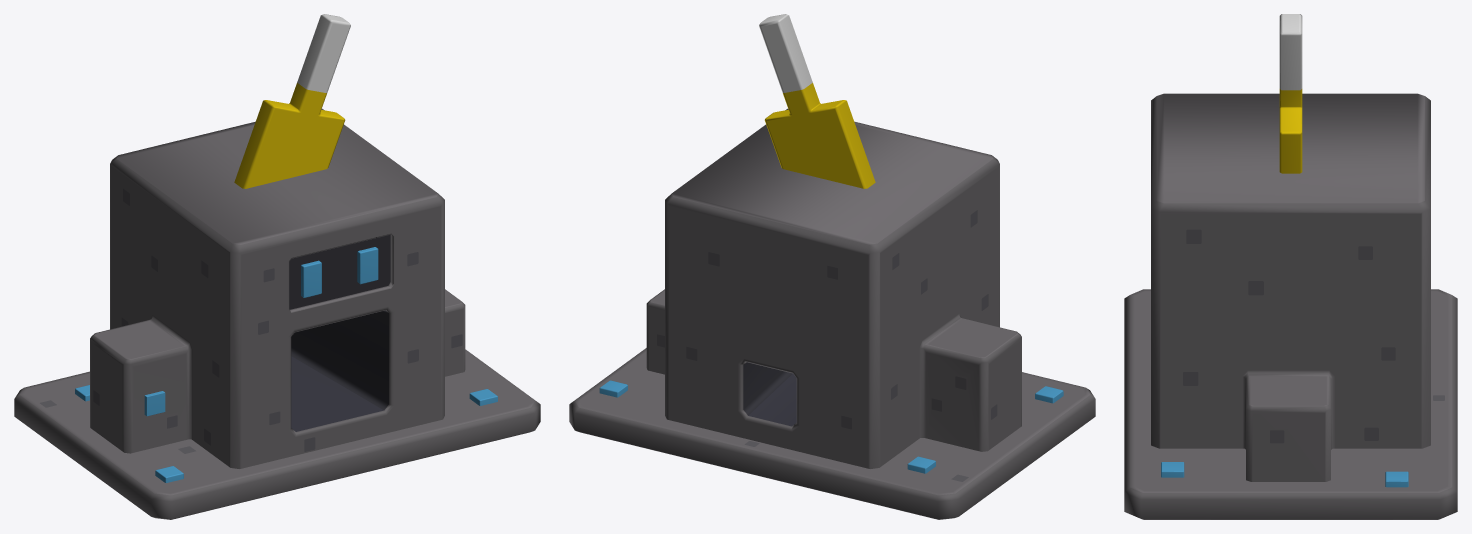
The picture shows the model from 3 angles, left to right: view 1: azimuth 30°, elevation 25°; view 2: azimuth 150°, elevation 25°; view 3: azimuth 270°, elevation 25°; orthographic projection. The views are drawn at different scales.
Parts seen in each view (by area): view 1: model; view 2: model; view 3: model.
Boxes of the visible parts, x1,y1,x2,y2 form: model: (14, 14, 540, 519); model: (569, 14, 1095, 519); model: (1124, 14, 1457, 519).
Bounding box in the file's own units: 2.08 × 2.01 × 1.41.
